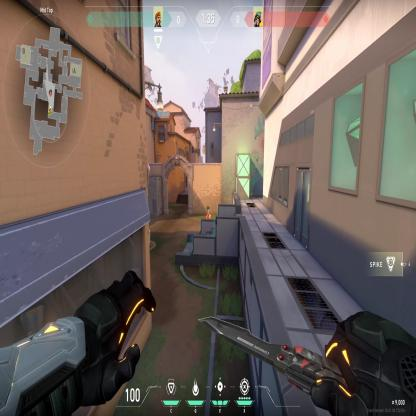enemy: (206, 208, 211, 219)
